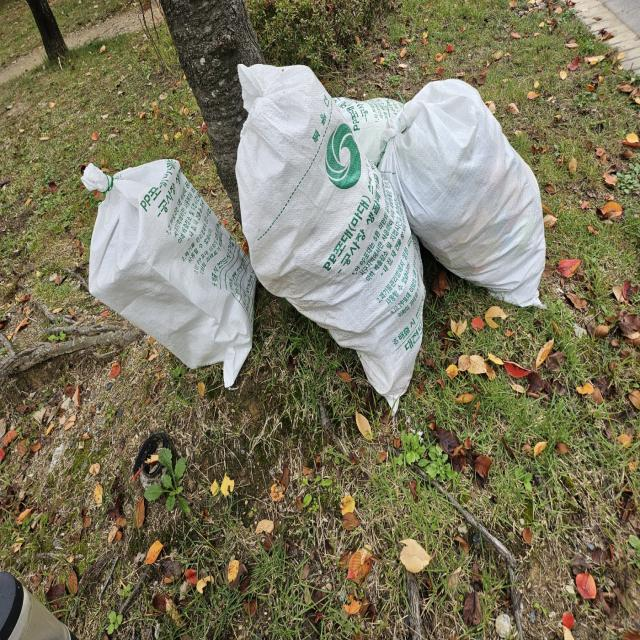PP bag: (227, 58, 433, 410), (367, 67, 568, 328), (75, 153, 266, 383), (312, 71, 433, 162)
